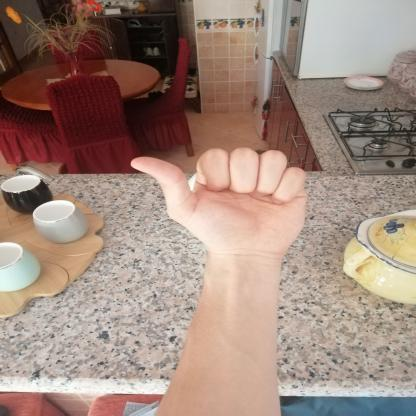DAD: (116, 139, 320, 263)
